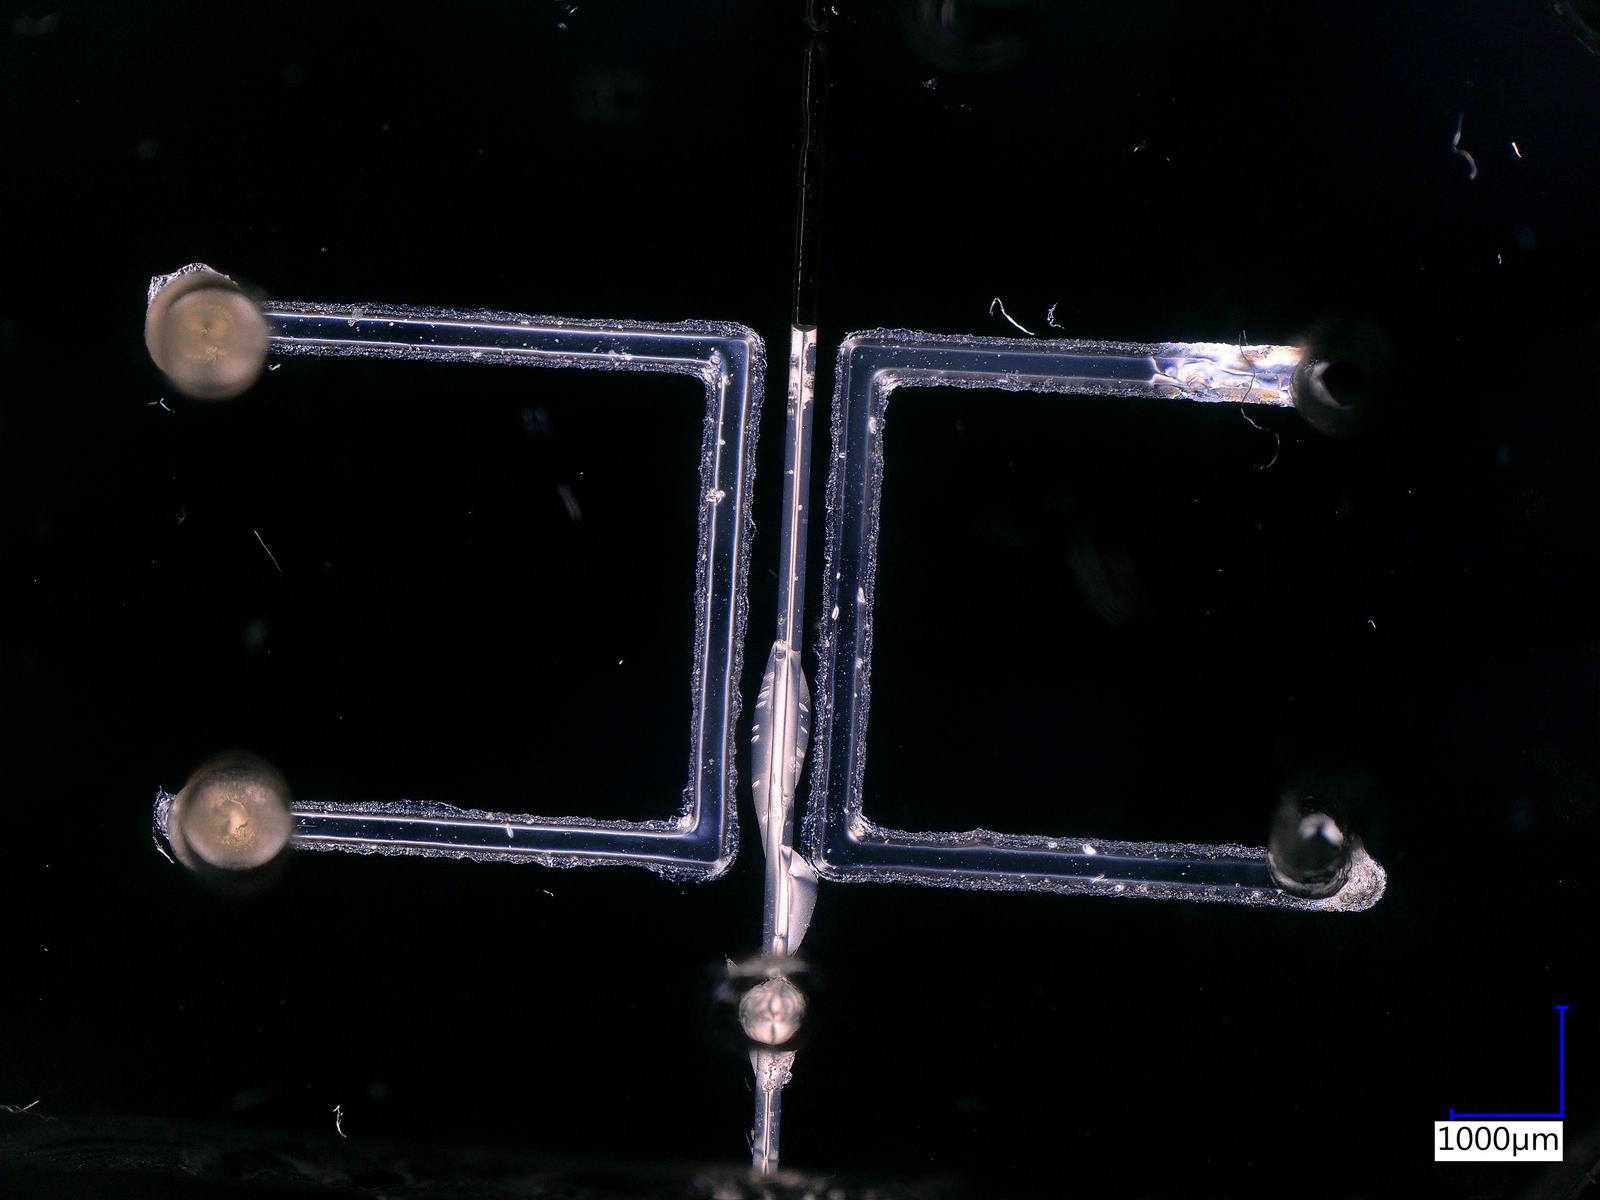sediment: (1343, 868, 1386, 913)
